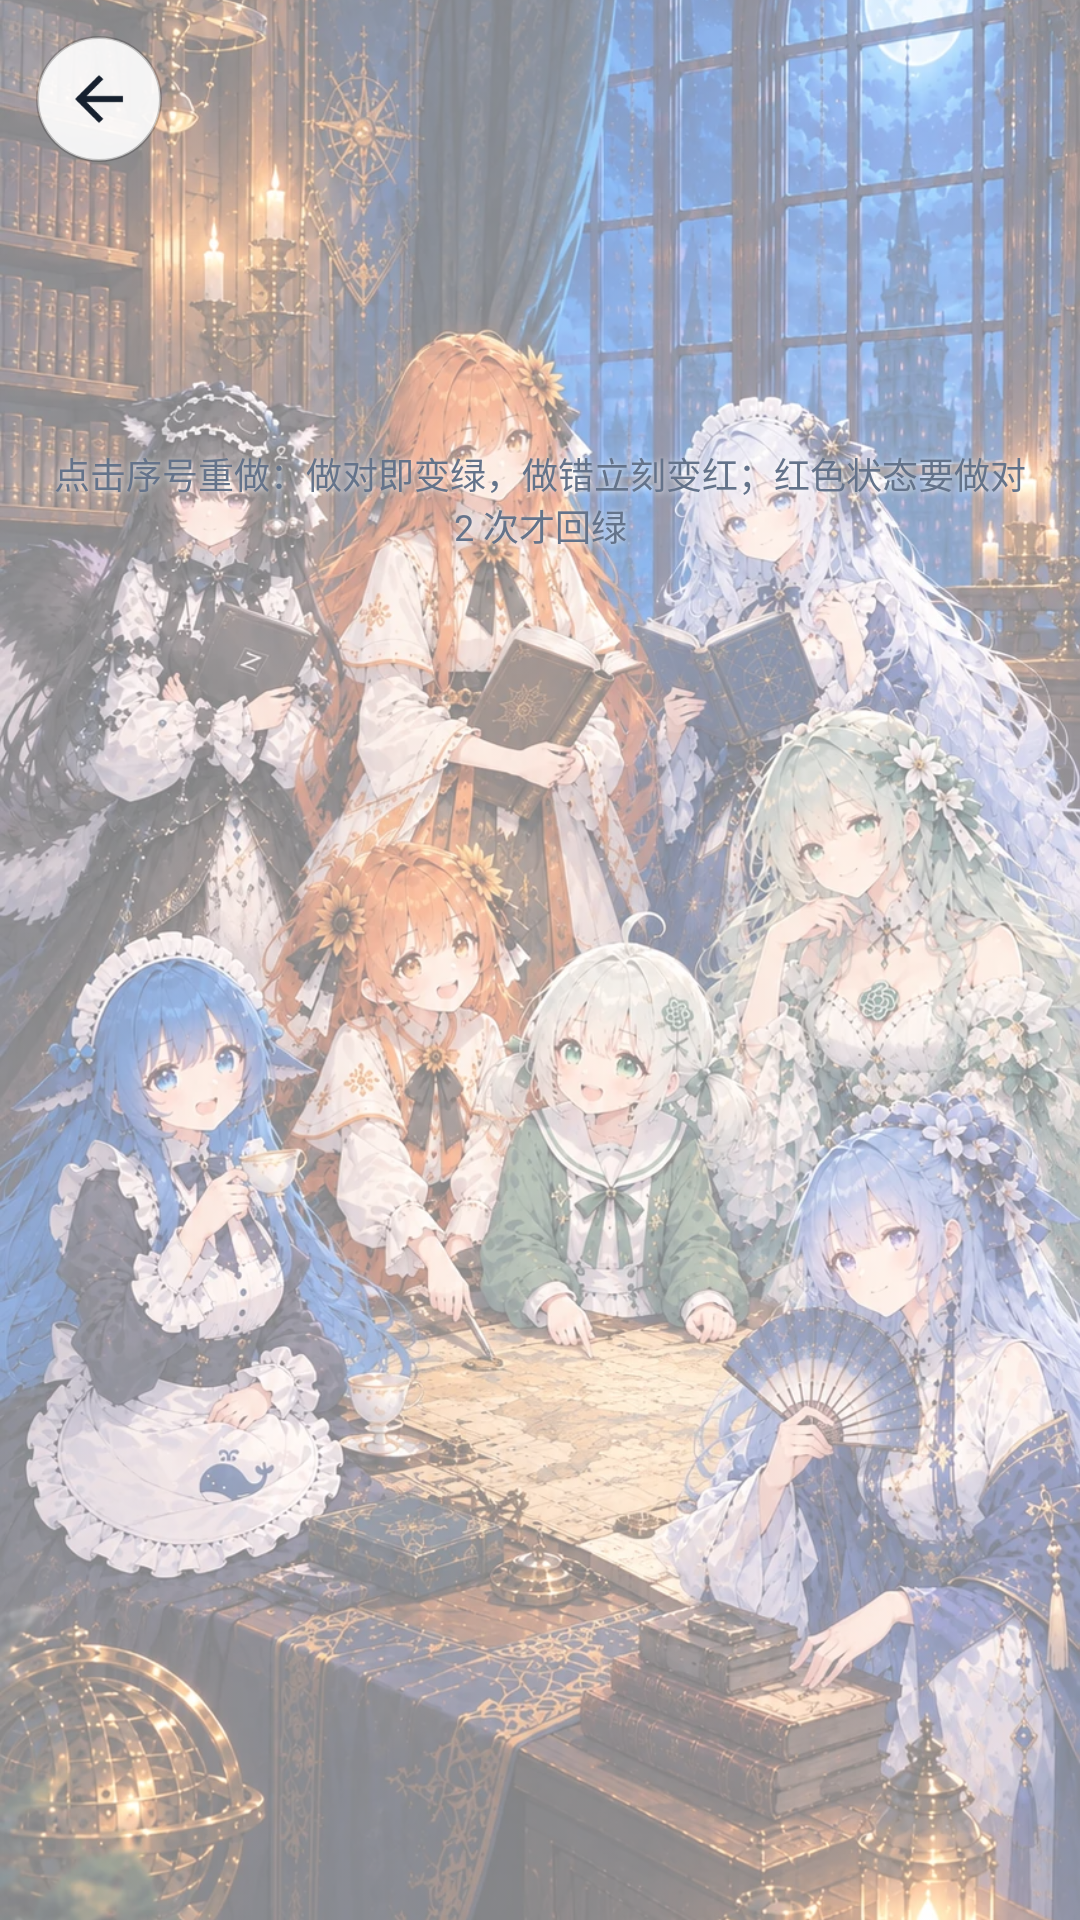

Screen size 1080w x 1920h. Icon name, then its center in pixels as (x,y):
返回: (99,99)
